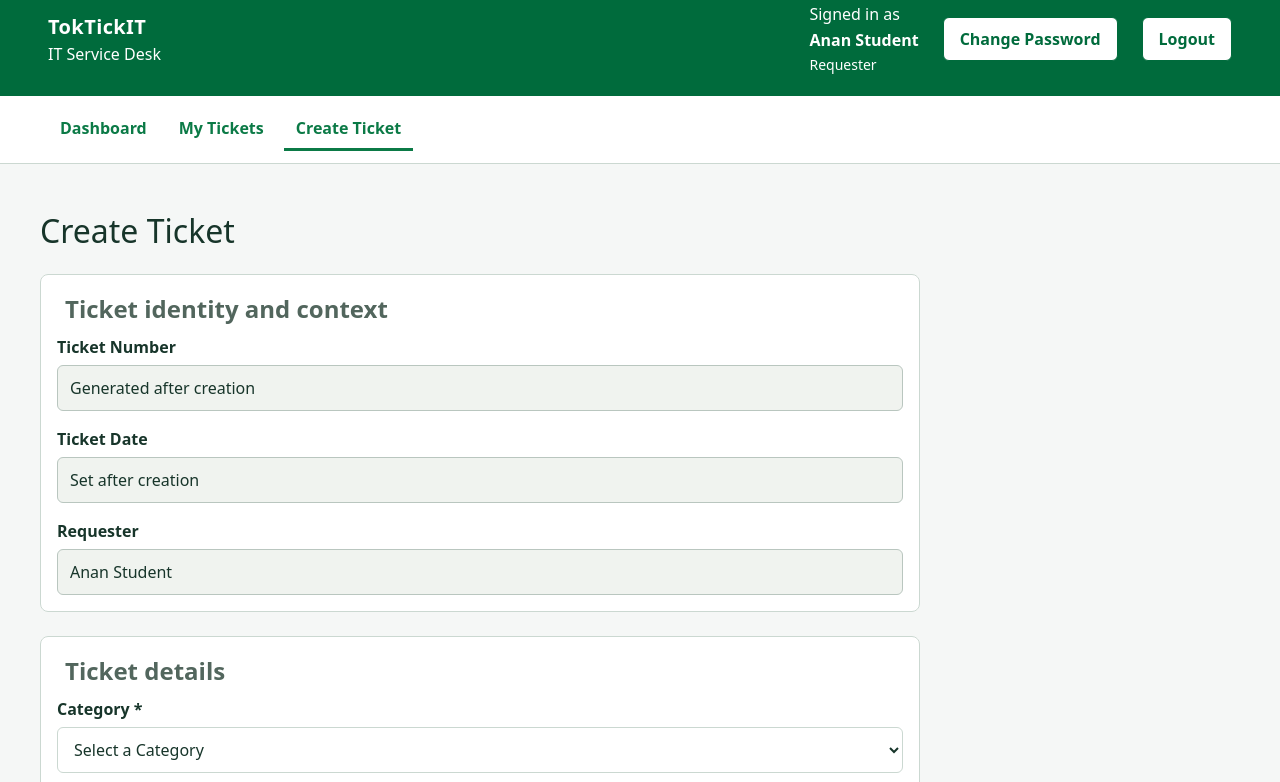
STYLE-02 readable state indicators › renders textual success, priority, and status cues
Expected: the heading "Create Ticket" is shown, left=40, top=209, right=235, bottom=252
Select "Hardware" in the dropdown labelled "Category *": (480, 750) left=57, top=727, right=903, bottom=773
(page scrolled)
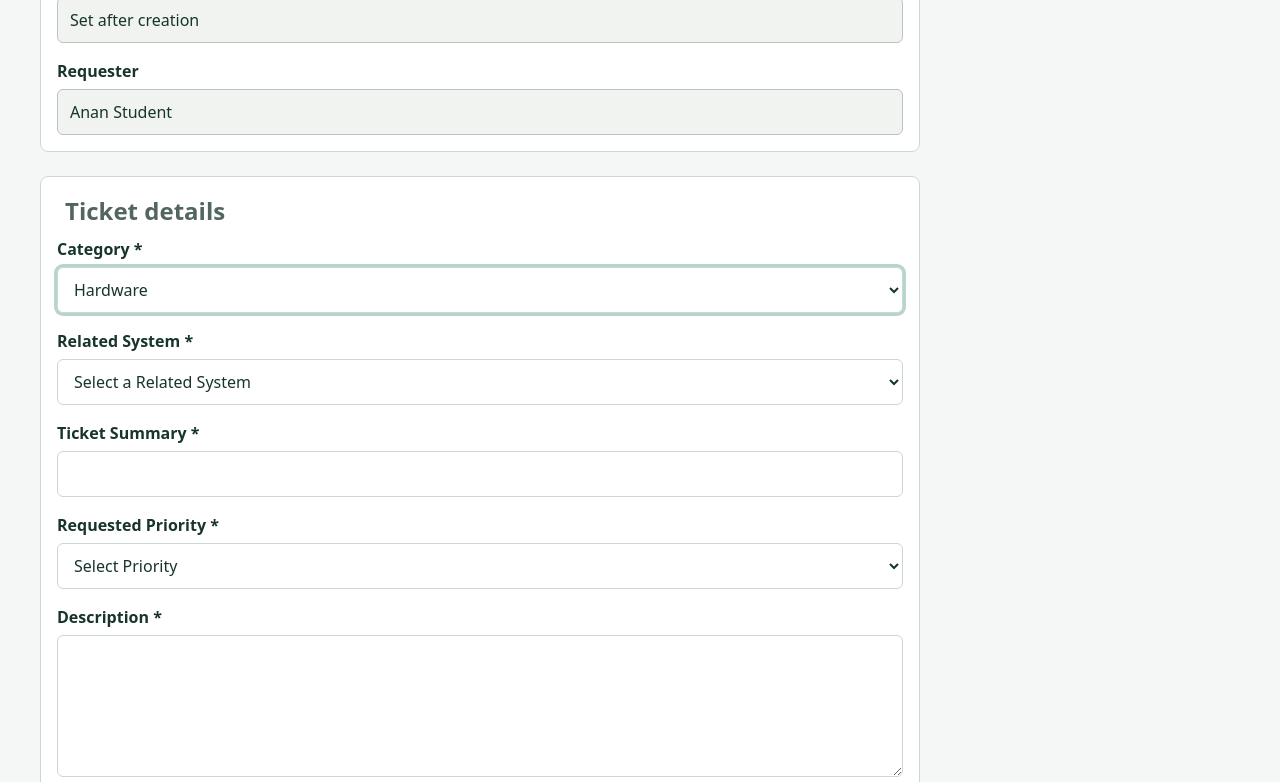
Select "University Email" in the dropdown labelled "Related System *": (480, 382) left=57, top=359, right=903, bottom=405
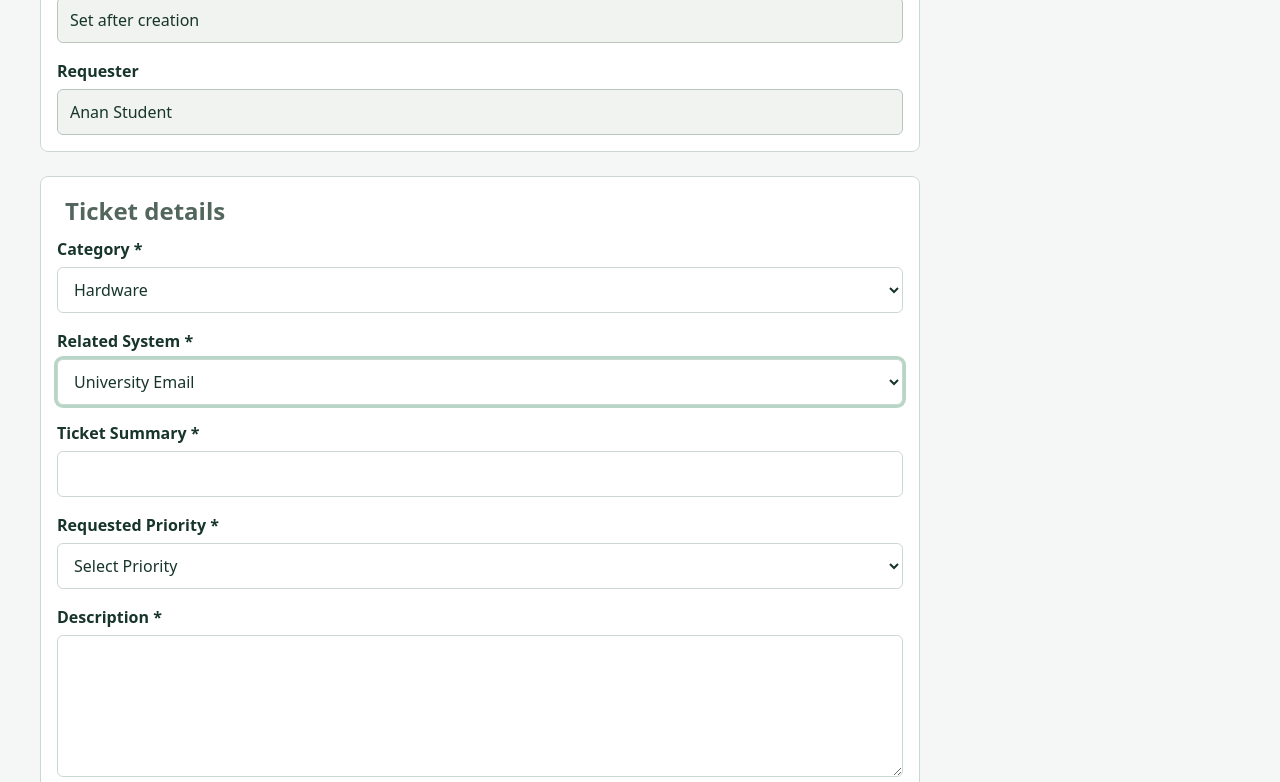
In the field labelled "Ticket Summary *": (480, 474) left=57, top=451, right=903, bottom=497, type "Readable state indicators"
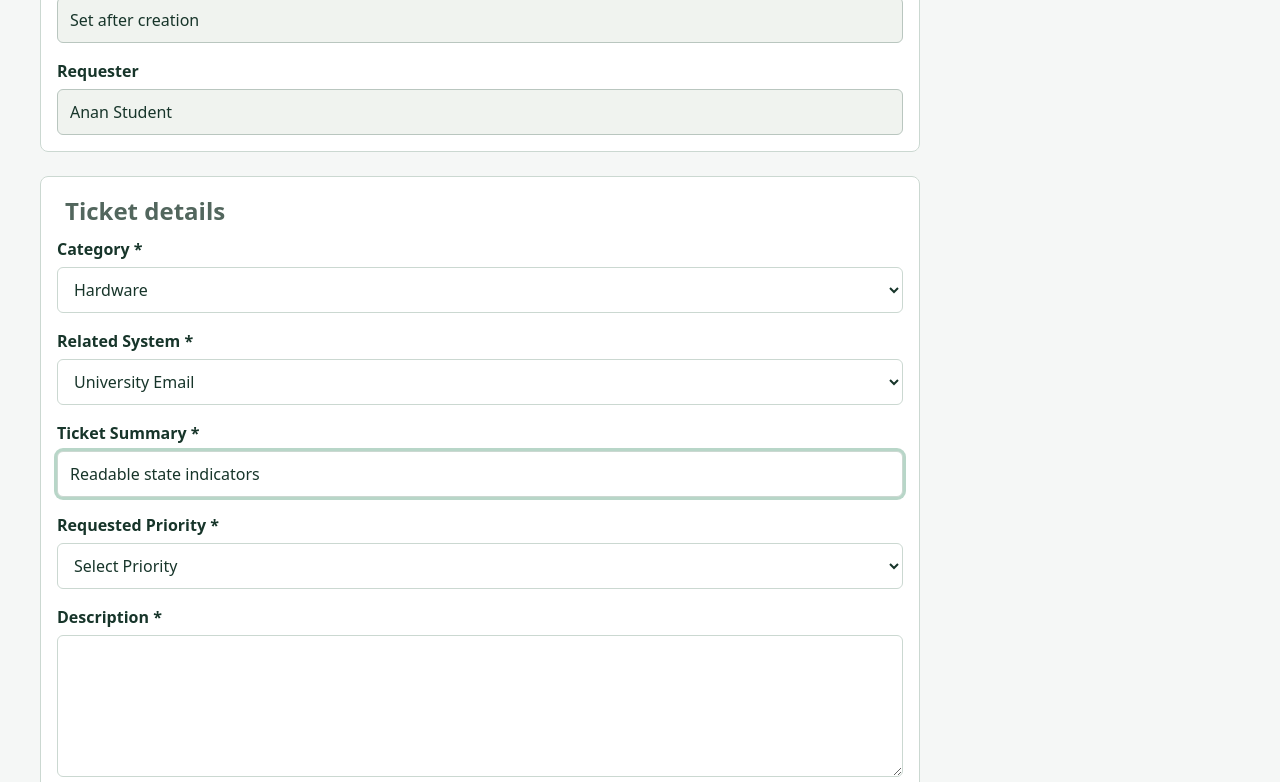
Select "High" in the dropdown labelled "Requested Priority *": (480, 566) left=57, top=543, right=903, bottom=589
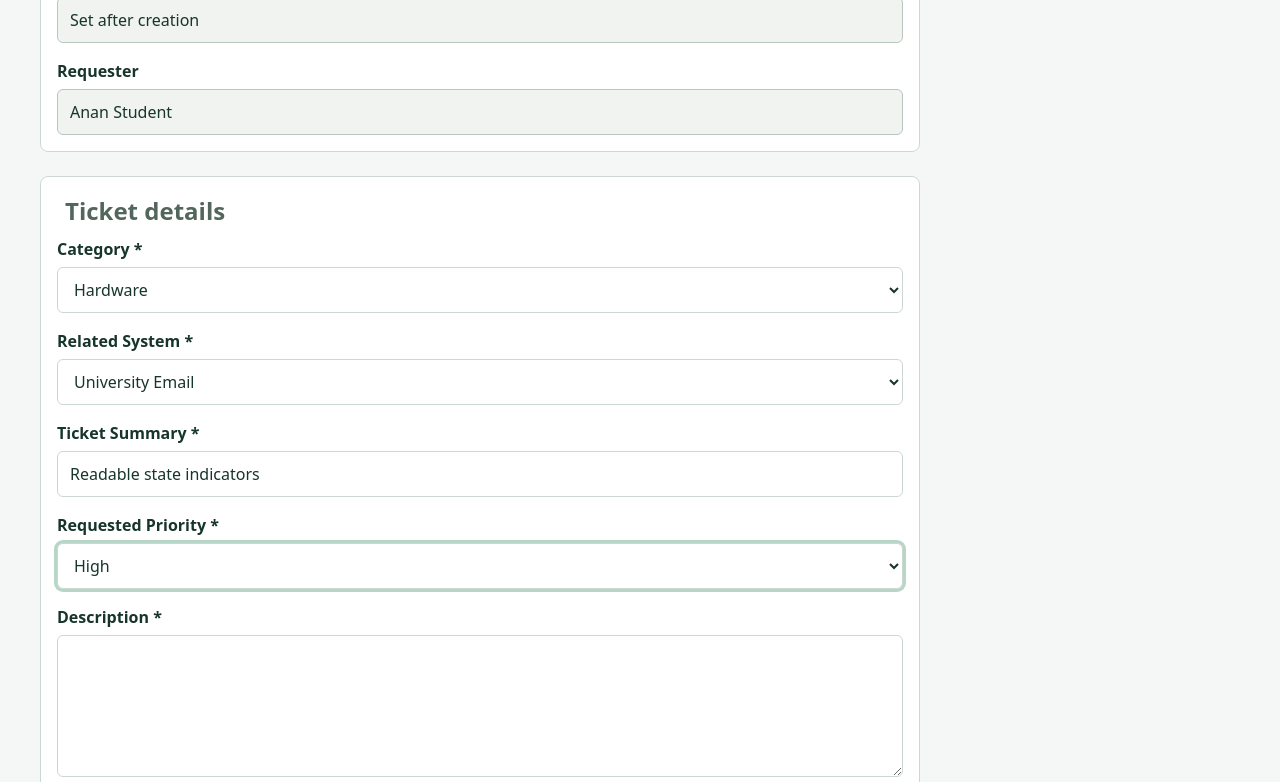
In the text box labelled "Description *": (480, 706) left=57, top=635, right=903, bottom=777, type "A sufficiently detailed description for state-indicator checks."
(page scrolled)
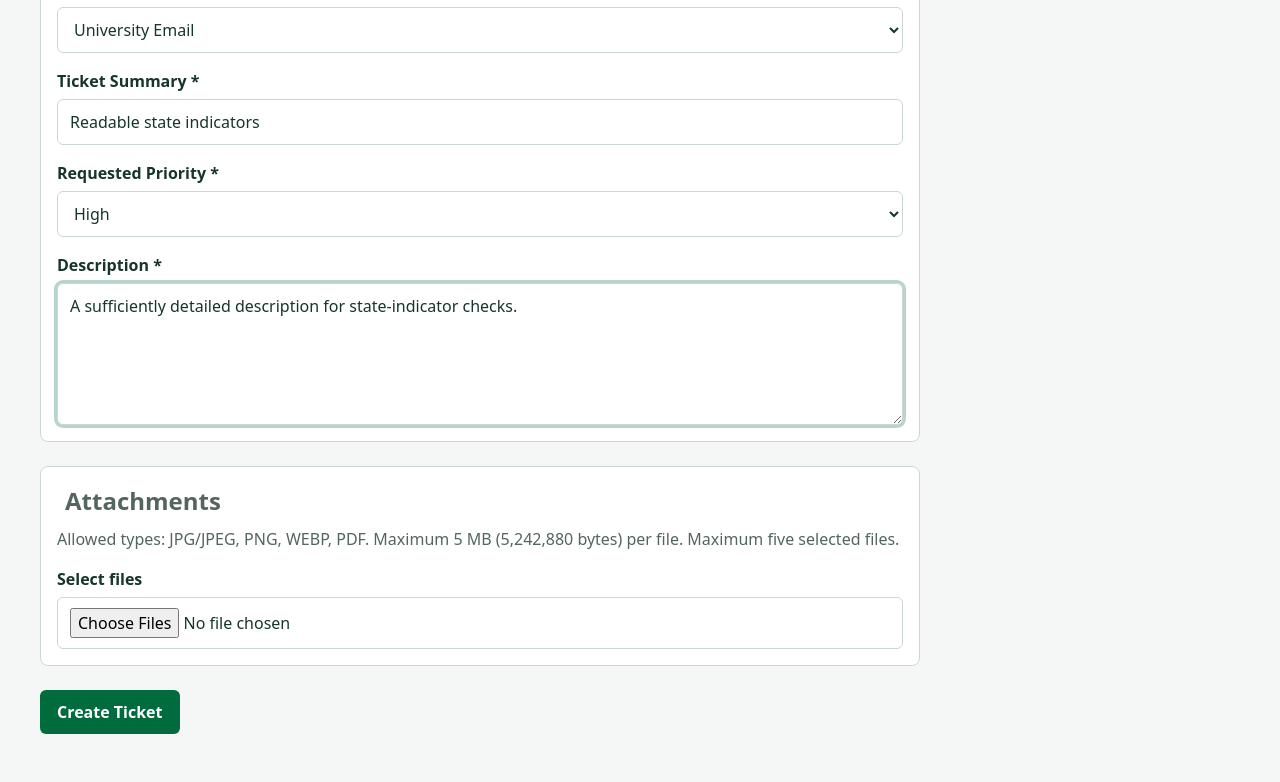
Click the button "Create Ticket": (110, 712) left=40, top=690, right=180, bottom=734
(page scrolled)
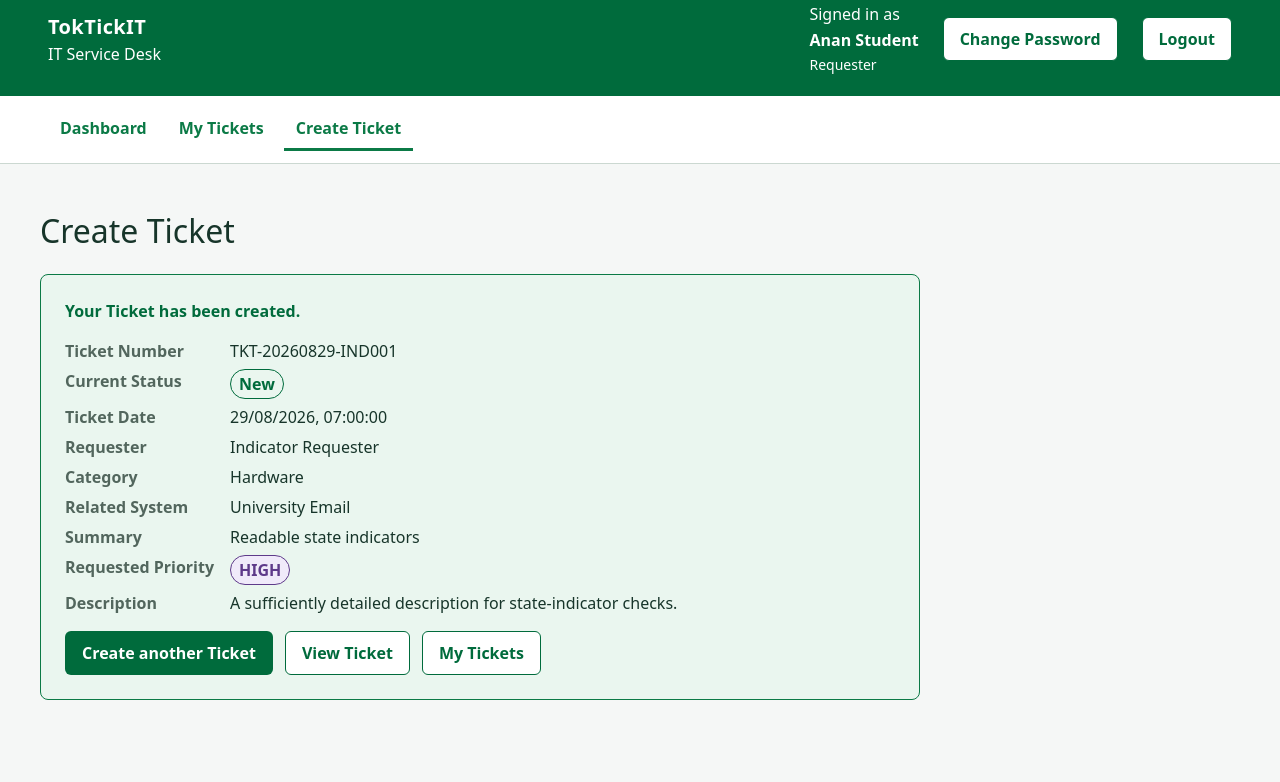
Expected: the text "Ticket Number" is shown, left=65, top=340, right=184, bottom=362
Expected: the text "Your Ticket has been created." is shown, left=65, top=300, right=300, bottom=322
